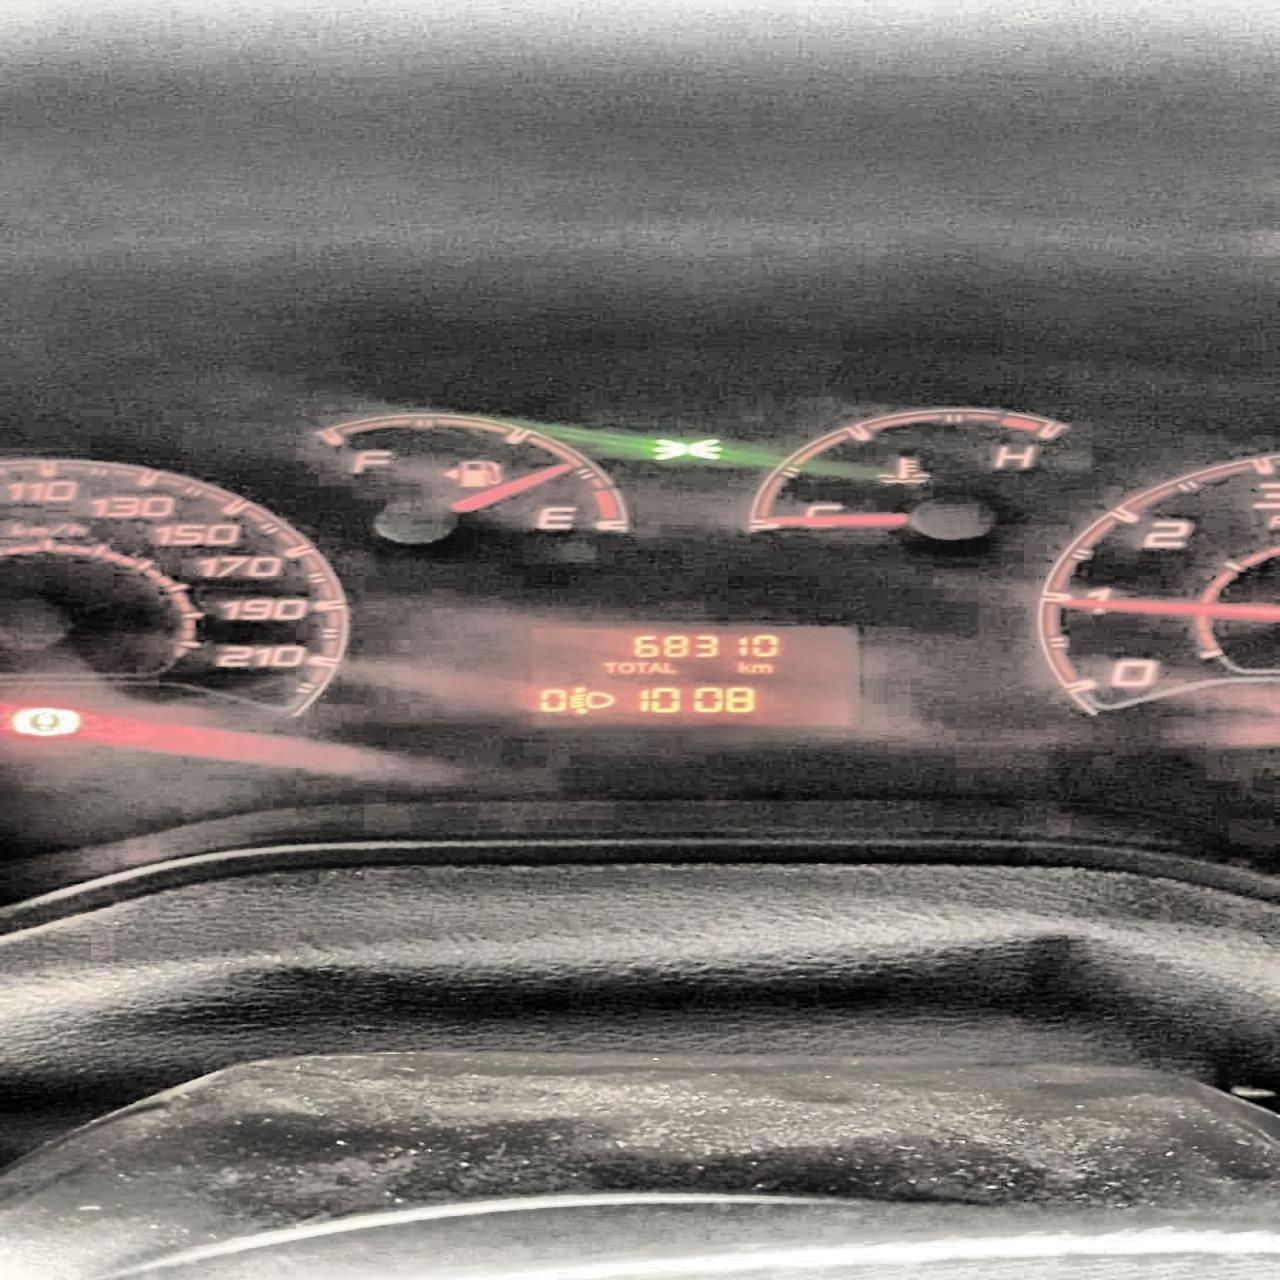0: (692, 687, 723, 714), (651, 687, 680, 715), (536, 687, 565, 713), (753, 633, 779, 658)
1: (734, 633, 751, 658), (634, 686, 649, 714)
3: (694, 633, 719, 658)
6: (629, 633, 660, 659)
8: (724, 686, 757, 713), (662, 633, 688, 658)
X: (750, 662, 775, 674), (618, 660, 635, 674), (661, 660, 676, 674), (601, 660, 615, 674), (648, 660, 661, 674), (634, 661, 647, 673), (735, 661, 748, 673)
odometer: (511, 621, 865, 730)
